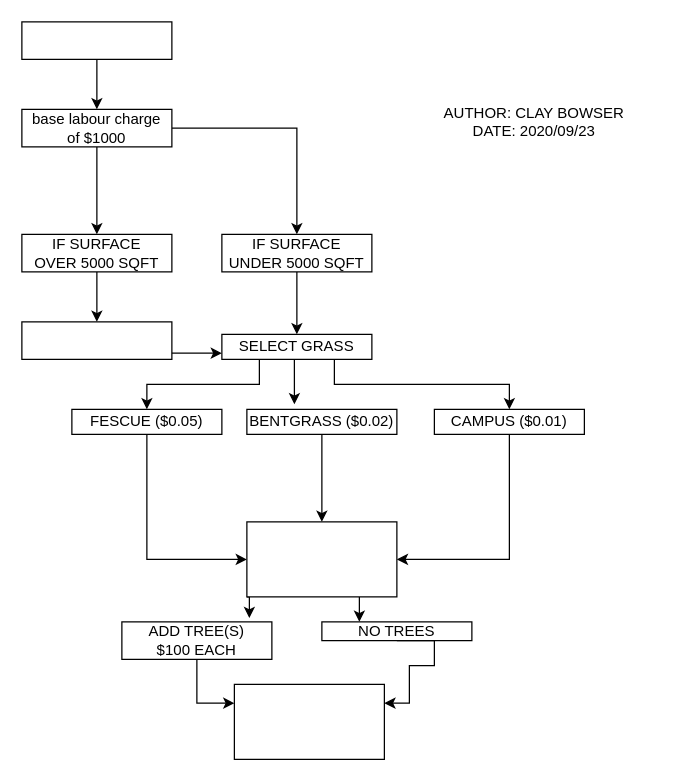
The diagram is 694 pixels wide and 781 high, and some of its shapes have lost their labels. The shapes that lost their labels are listed below. From the top down, each one's centre as x and y in pixels, then its label:
(96,40): PROMPT USER INPUT
(96,340): ADD $500 TO TOTAL
(321,559): SURFACE * GRASS TYPE
(308,721): PRINT RESULTS
